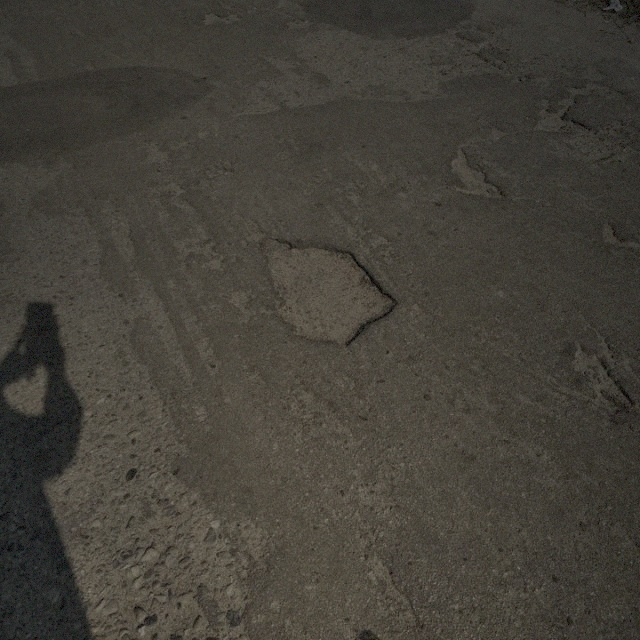pothole: (255, 230, 400, 348), (569, 341, 635, 410), (447, 146, 507, 202), (528, 98, 591, 138)
